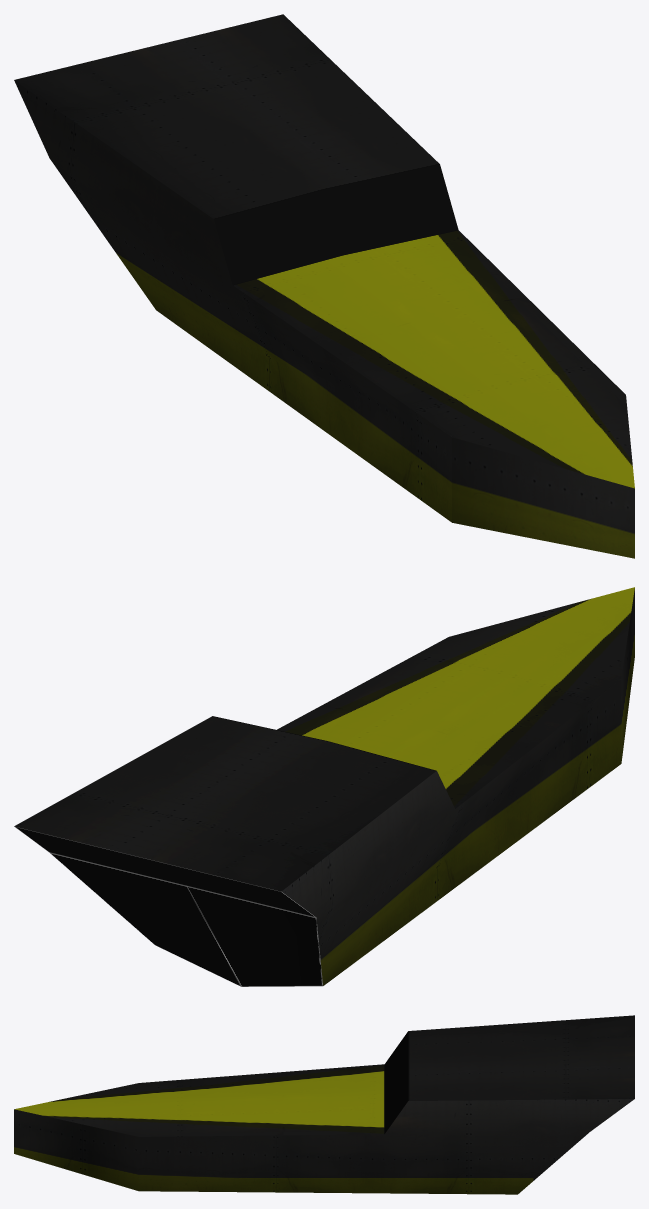
Rendered from speederBoat02_YELLOW.fbx.
3 renders of one model, top to bottom at view 1: azimuth 30°, elevation 25°; view 2: azimuth 150°, elevation 25°; view 3: azimuth 270°, elevation 25°, orthographic. The views are drawn at different scales.
Visible parts, largest first — view 1: pCube1; view 2: pCube1; view 3: pCube1.
Part boxes in pixels (x1,y1,x2,y2): pCube1: (14,14,634,558); pCube1: (14,587,634,986); pCube1: (14,1015,634,1194).
Size of the model in its own units: 12.45 by 8.64 by 39.11.
Materials: 1 (1 with a texture image).
